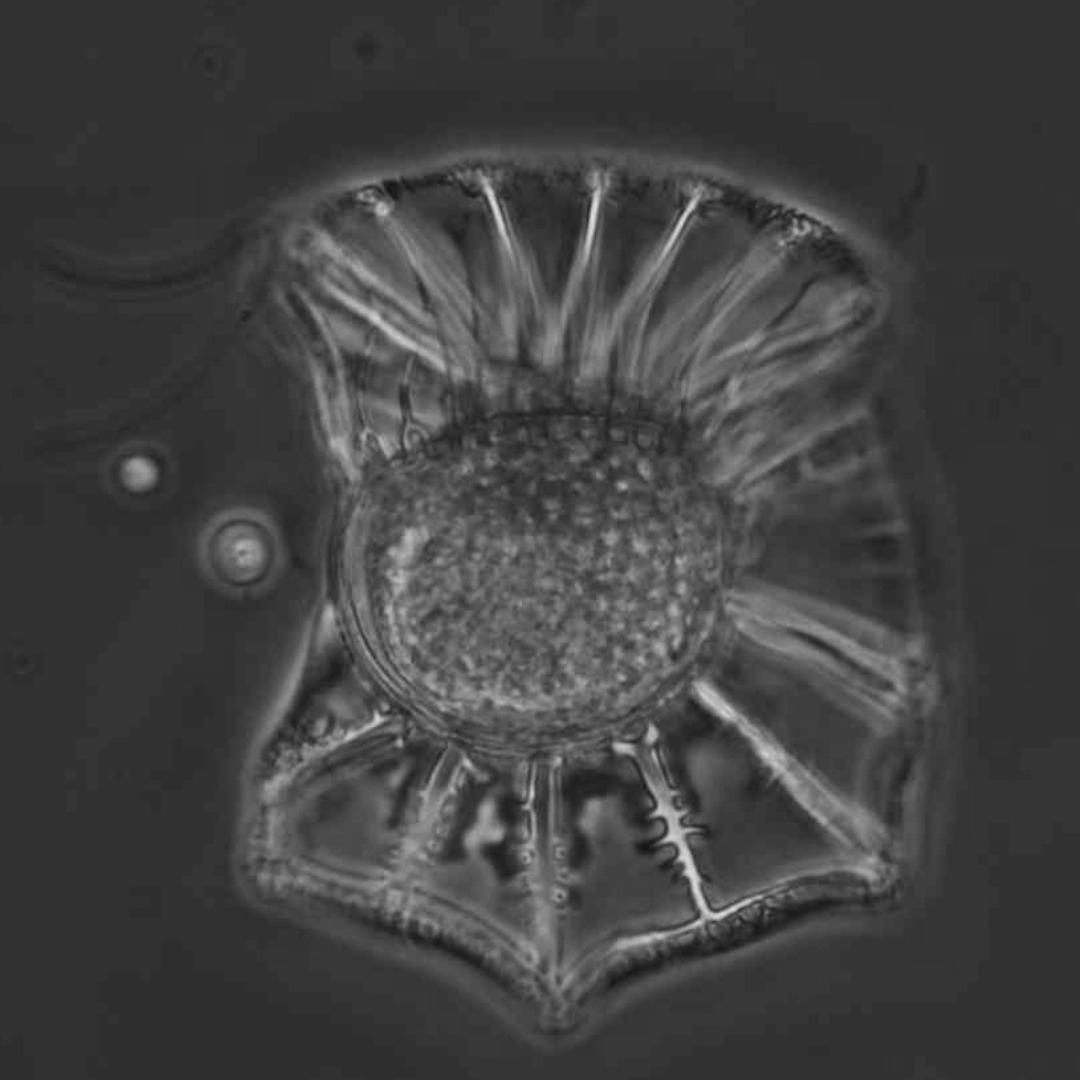ornithocercus_thumii: (247, 158, 938, 1033)
